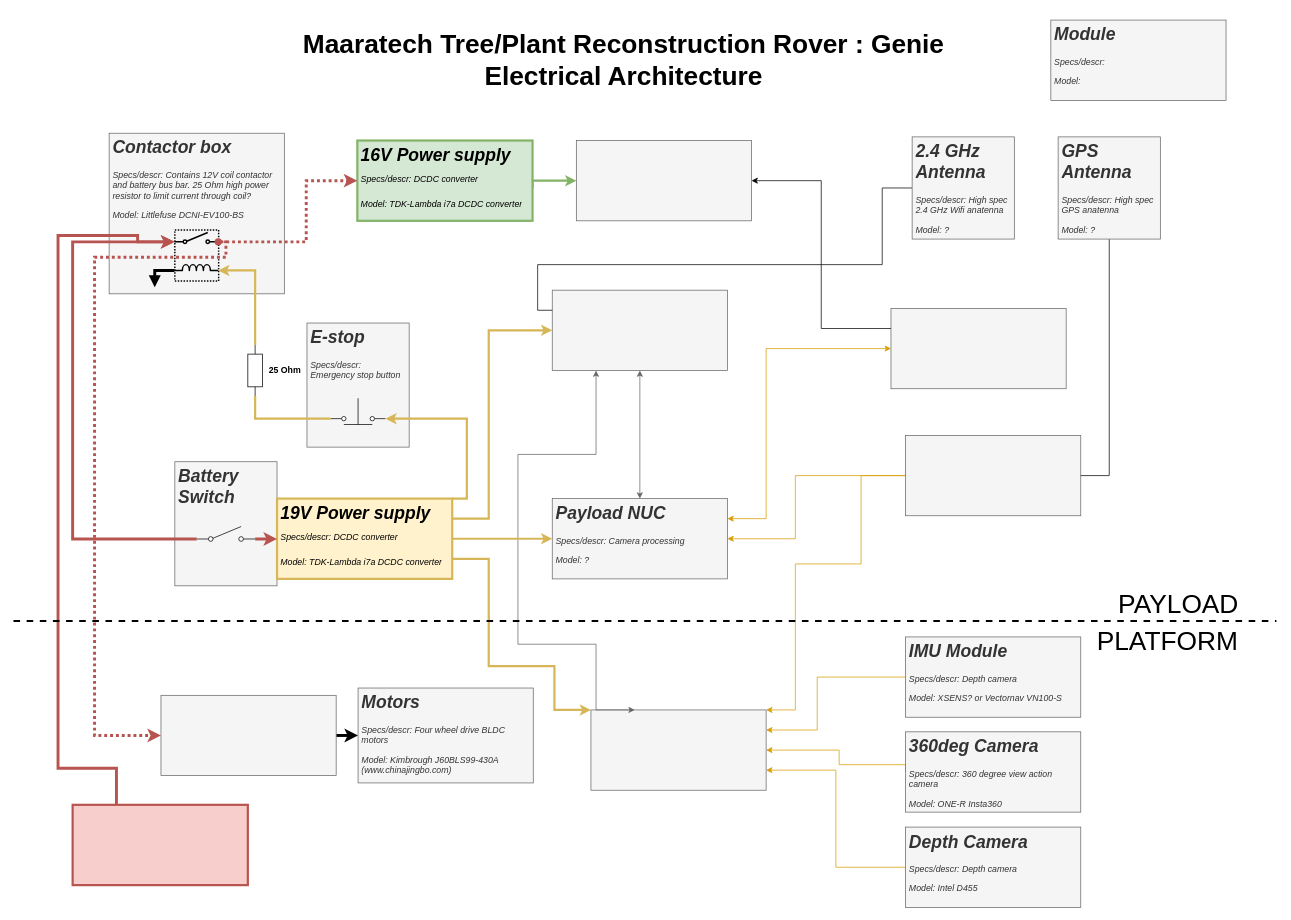
The diagram is 1291 pixels wide and 920 high, and some of its shapes have lost their labels. Each missing label, with the centre of its shape:
48V Battery Specs/descr: 4 x 12.8 V, Lithium deep cycle Model: Powertech: [160,844]
Flash Modules Specs/descr: 6 camera flash modules Model: Inhouse design: [664,180]
GPS Module Specs/descr: Depth camera Model: XSENS GNSS RTK or Drotek DPO601: [993,475]
Modem Router Specs/descr: 4G + WiFi + BT + Gigabit Eth Model: RUTX12: [639,329]
Motor controller Specs/descr: 4 BLDC motor controllers. Model: O-Drive?: [248,735]
Platform NUC Specs/descr: Navigation processing Model: ?: [678,749]
Recon Cameras Specs/descr: Main 6 reconstruction cameras Model: Computar?: [978,348]
